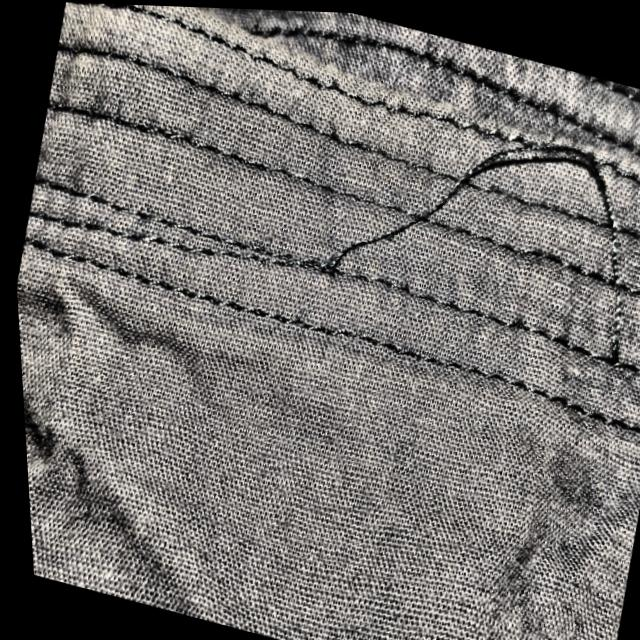Stitch: (230, 52, 640, 450)
